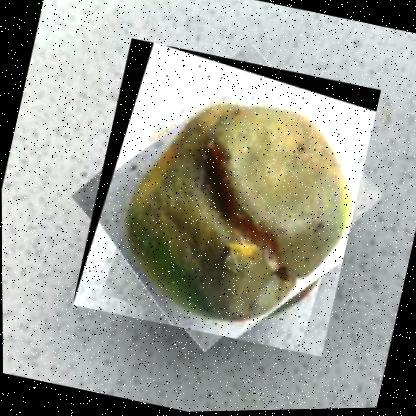orange_rotten: (70, 33, 383, 363)
